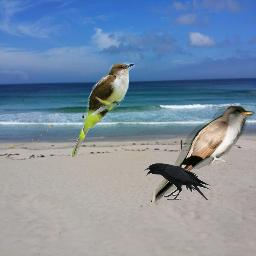Crow: (144, 163, 212, 201)
Cuckoo: (151, 106, 256, 202), (70, 62, 135, 159)
